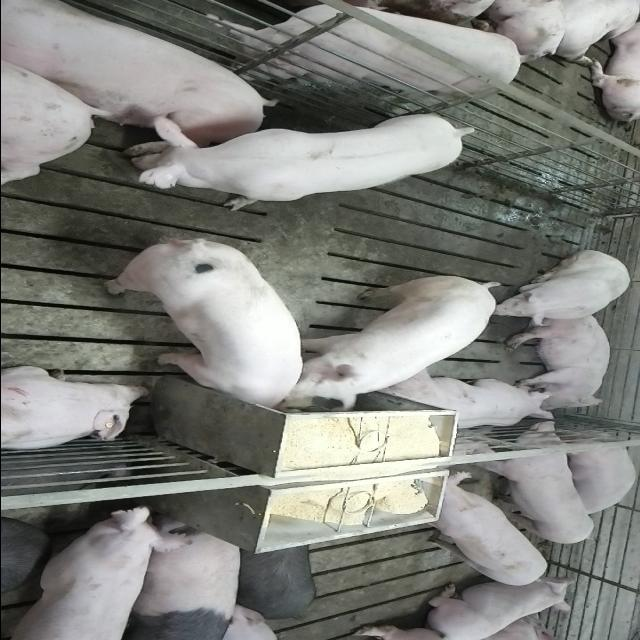Feeding: (96, 235, 300, 412), (277, 273, 503, 409)
Lateral_lying: (503, 312, 611, 410)
Sitting: (488, 250, 632, 328)
Standing: (114, 110, 472, 208), (216, 0, 534, 101), (2, 502, 192, 638), (403, 473, 548, 588), (470, 421, 598, 545), (117, 522, 245, 638)
Sternal_lying: (0, 367, 150, 454), (377, 372, 555, 432), (418, 580, 573, 638)
